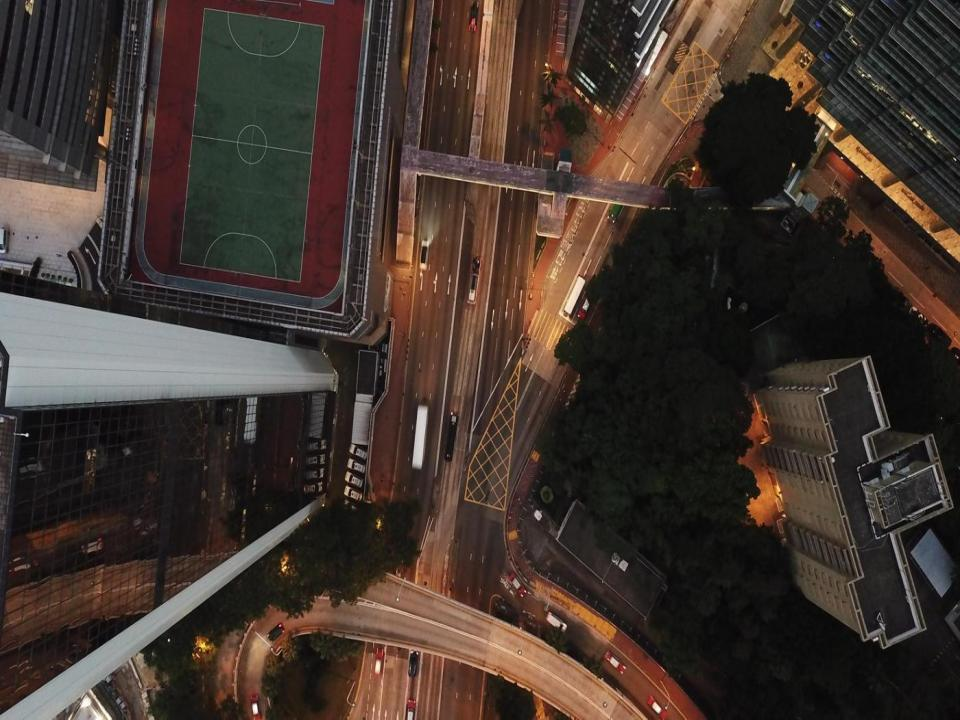bus: (411, 404, 428, 469), (563, 276, 586, 317), (444, 412, 458, 461), (468, 256, 480, 305)
car: (605, 649, 626, 675), (646, 696, 667, 718), (578, 294, 593, 319), (468, 1, 479, 31), (374, 646, 384, 674), (420, 240, 429, 270)
truck: (545, 610, 567, 634)
van: (507, 571, 526, 597), (408, 651, 418, 678), (405, 699, 415, 719)
